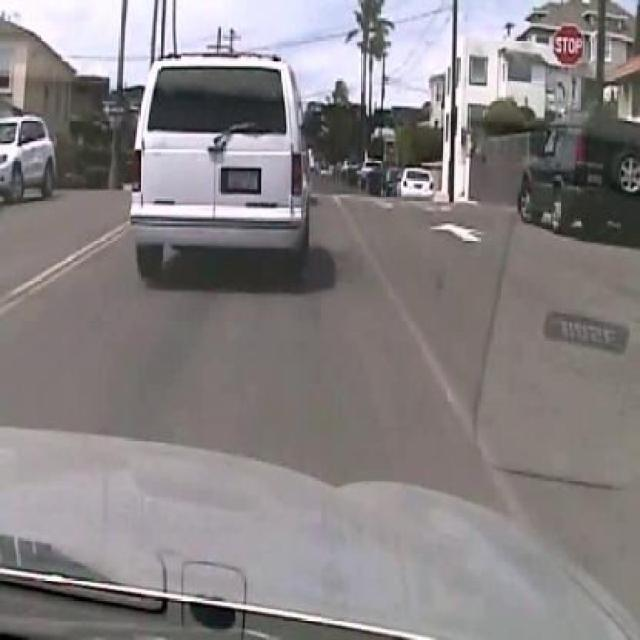stop: (550, 22, 587, 69)
